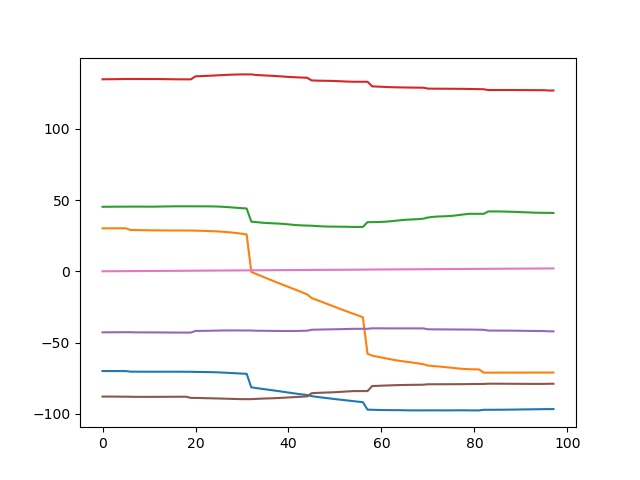Good_Bicep_Curl: (4, 3, 633, 477)
